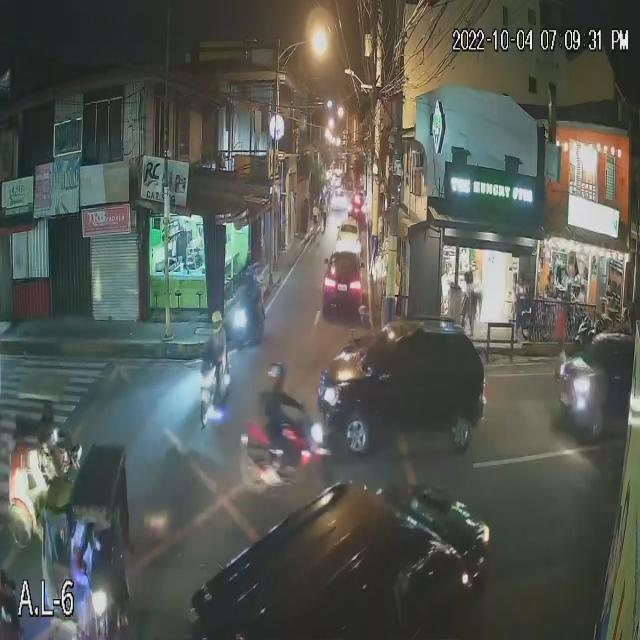helmet: (267, 361, 288, 388), (209, 311, 225, 333)
motorcycle: (239, 416, 331, 488), (196, 357, 230, 431)
rider: (258, 390, 306, 485), (209, 328, 228, 402)
